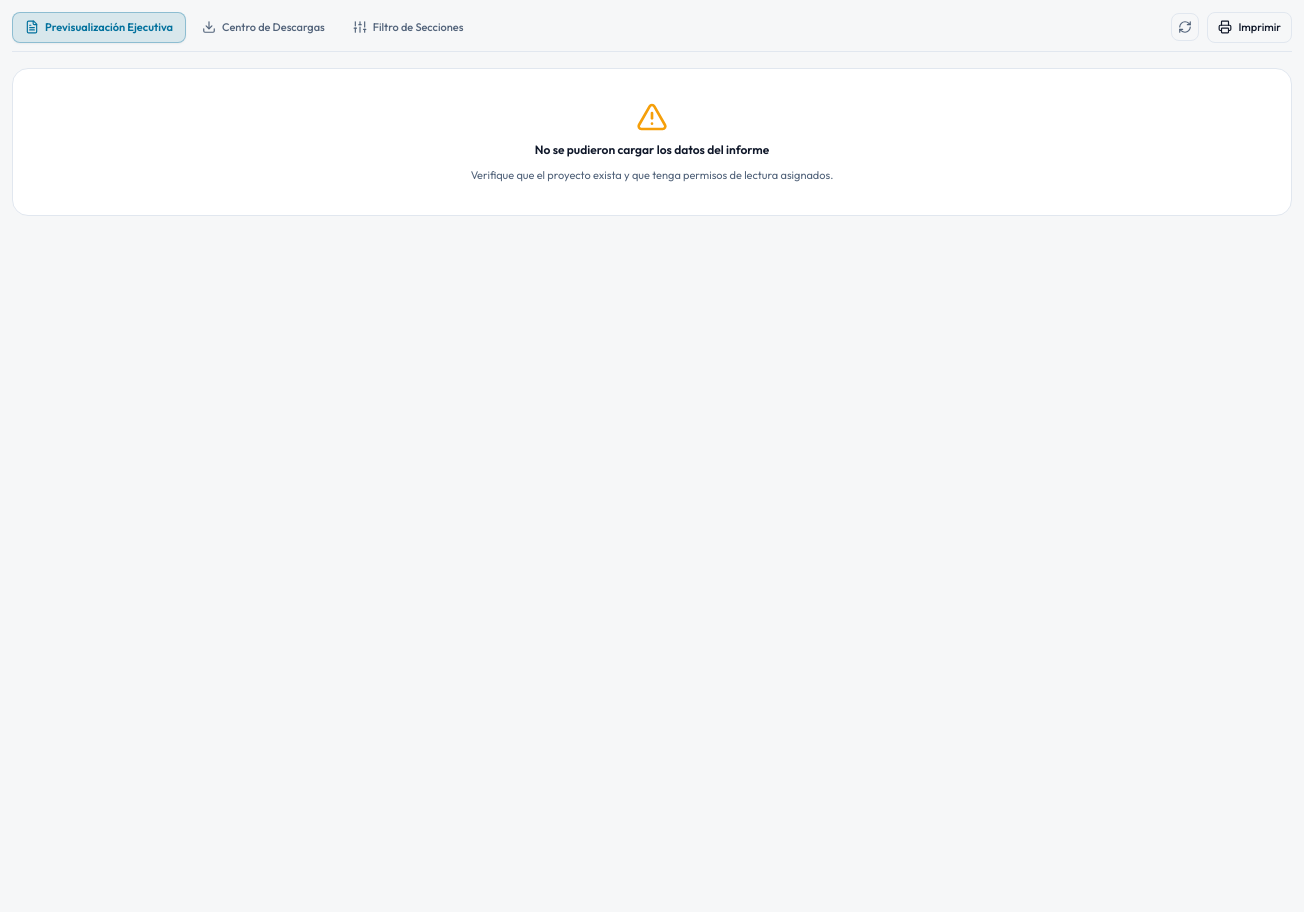
Scenario: ProjectReportDrawer › announces report loading errors and provides the empty recovery state
Expected: the heading "No se pudieron cargar los datos del informe" is shown, [535, 140, 769, 158]
Click the button titled "Refrescar datos del reporte".
click(1185, 27)  # box [1171, 13, 1199, 41]
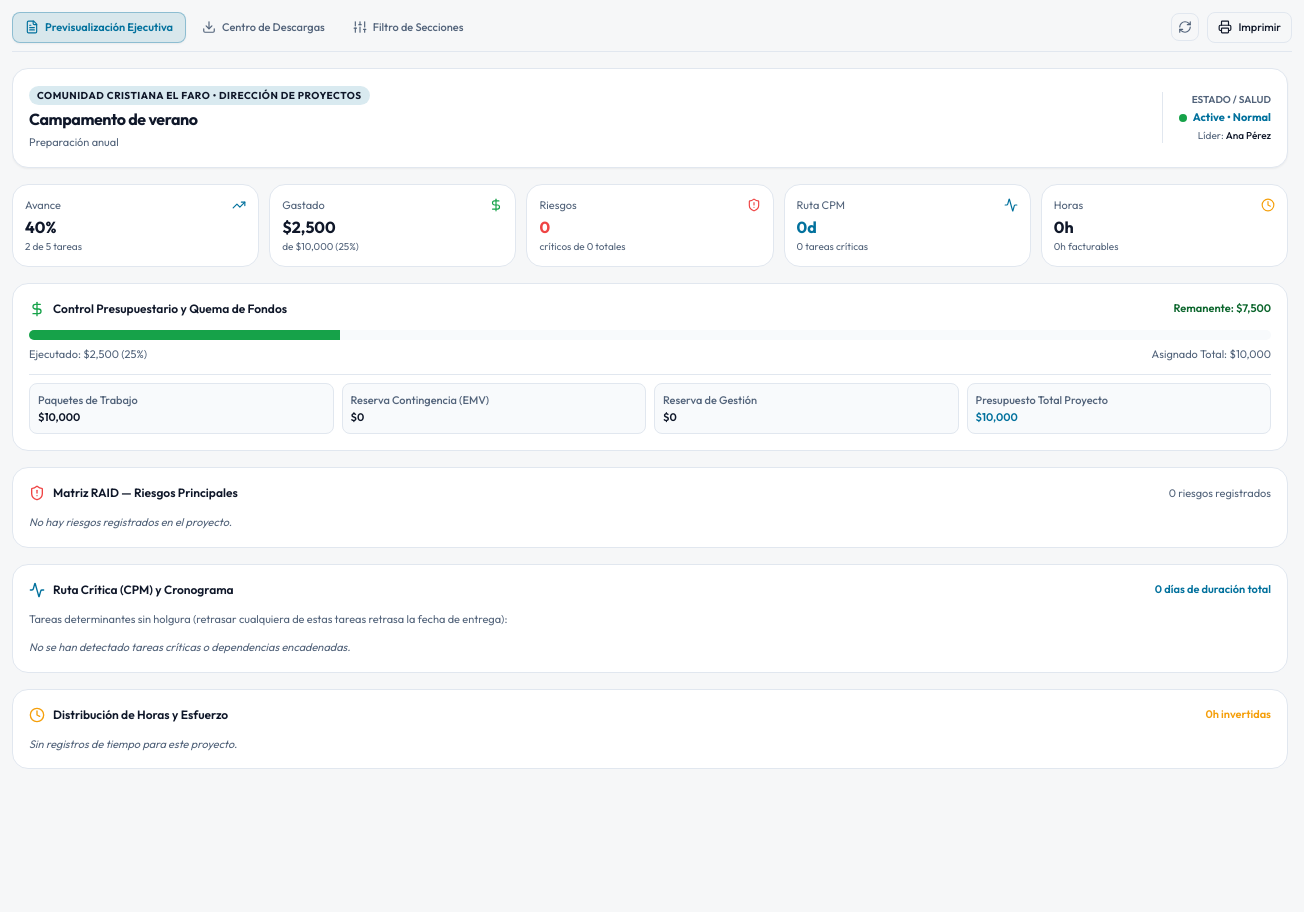
Expected: the heading "Campamento de verano" is shown, [29, 108, 198, 128]
